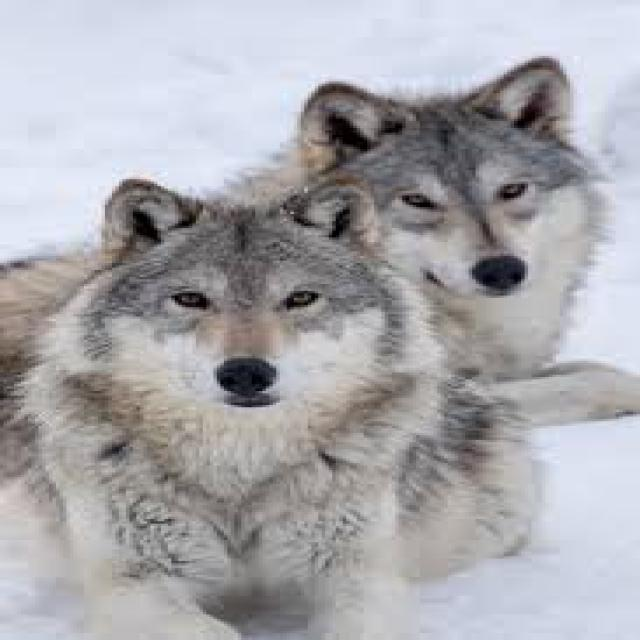Wolf: (0, 54, 612, 488)
